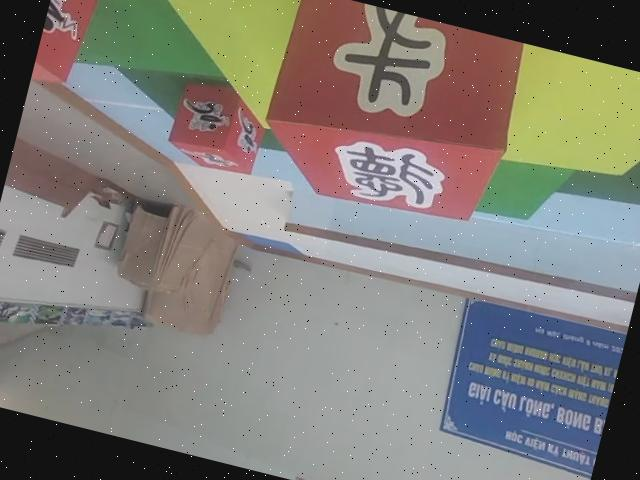R1: (162, 70, 275, 186), (28, 0, 116, 100)
R2 Fake: (246, 0, 532, 241)
